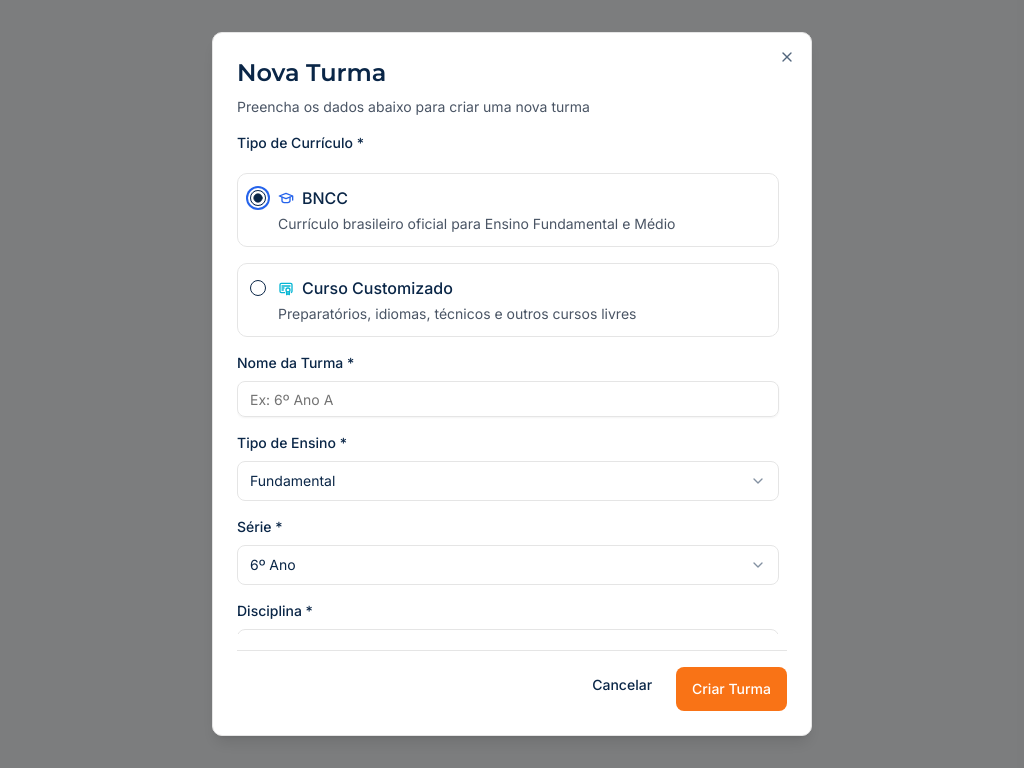
Test: TurmaFormDialog › should validate required fields
Click the button "Criar Turma": [732, 689] box [676,667,787,711]
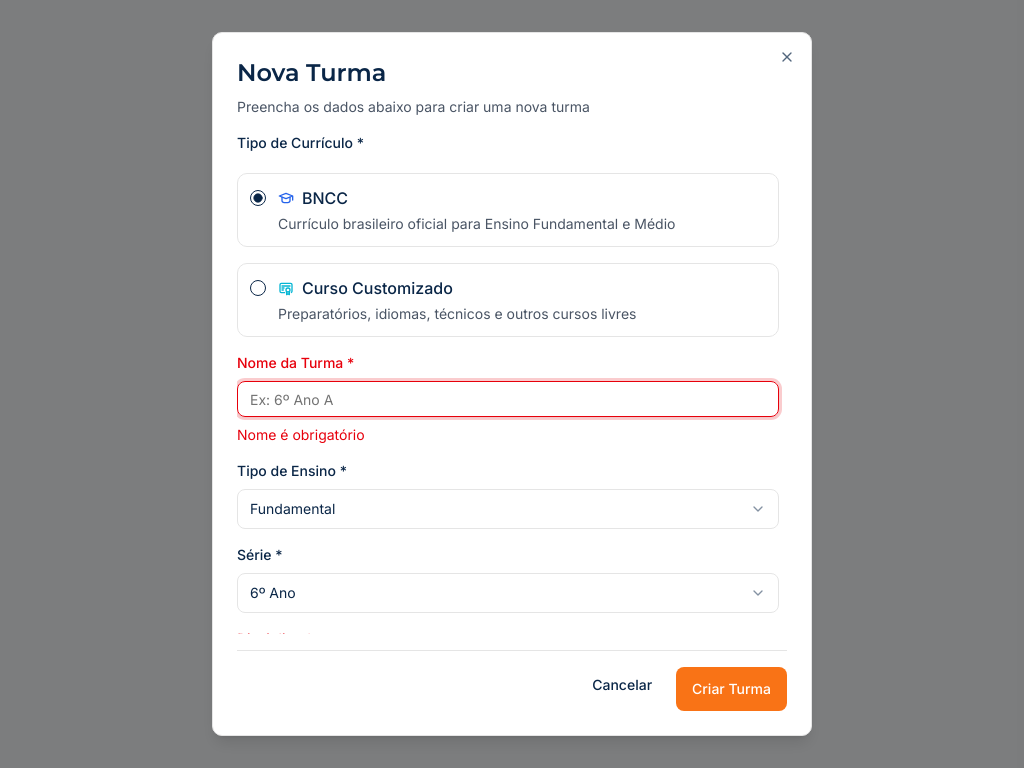
Result: the text "Nome é obrigatório" is shown at [237,426,365,443]
